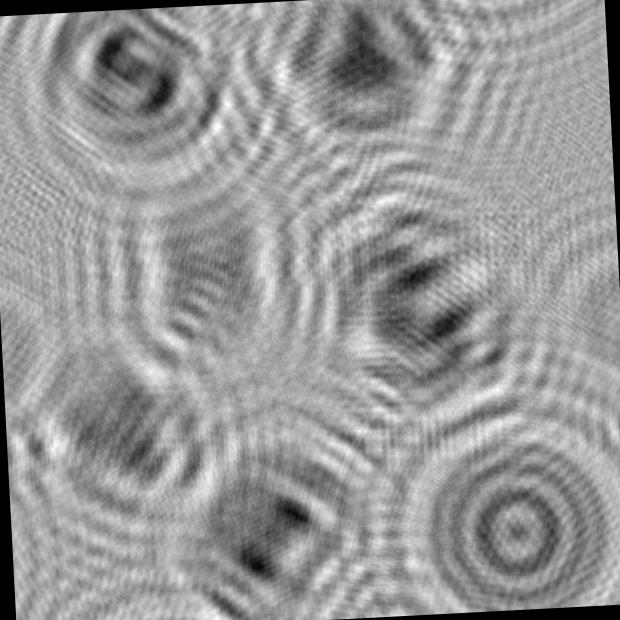A: (238, 0, 537, 216)
E: (127, 373, 435, 620)
I: (86, 144, 345, 400)
M: (266, 134, 566, 462)
O: (324, 325, 620, 619)
S: (0, 0, 299, 236)
Y: (0, 273, 266, 568)
